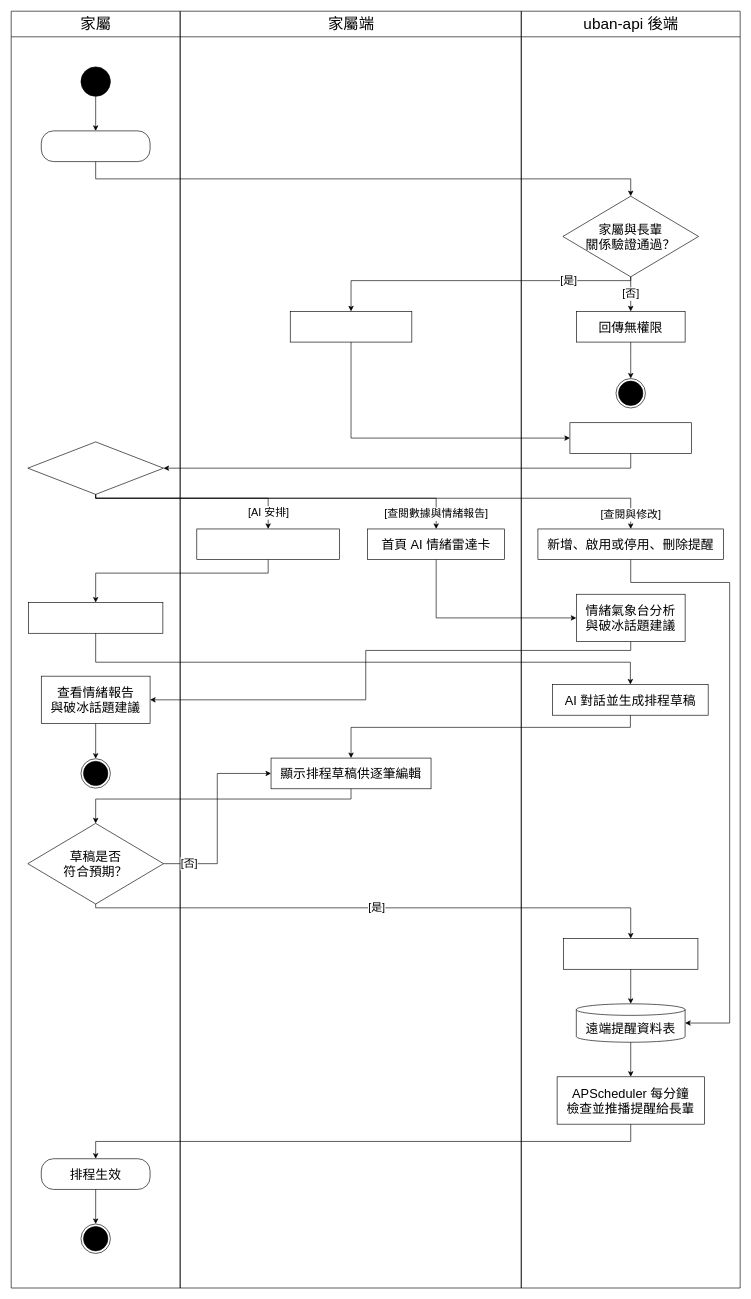
This 751x1299 diagram has some shape labels left out. The centre of each missing label's shape, as x and y in pixels:
"AI 照護共創助理畫面" belongs at pixel 268 544.
"以自然語言描述需求" belongs at pixel 95 617.
"依草稿批次建立提醒" belongs at pixel 630 953.
"查詢長輩提醒清單" belongs at pixel 630 437.
"進入照護排程" belongs at pixel 95 146.
"遠端提醒排程畫面" belongs at pixel 351 326.
"選擇操作" belongs at pixel 95 467.
